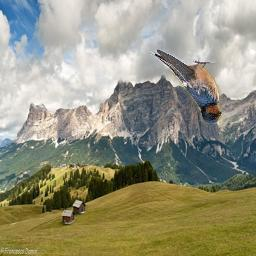Swallow: (150, 50, 222, 125)
